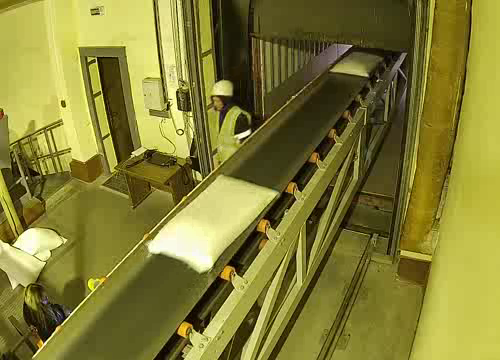bag: (138, 168, 286, 278), (324, 50, 389, 78)
